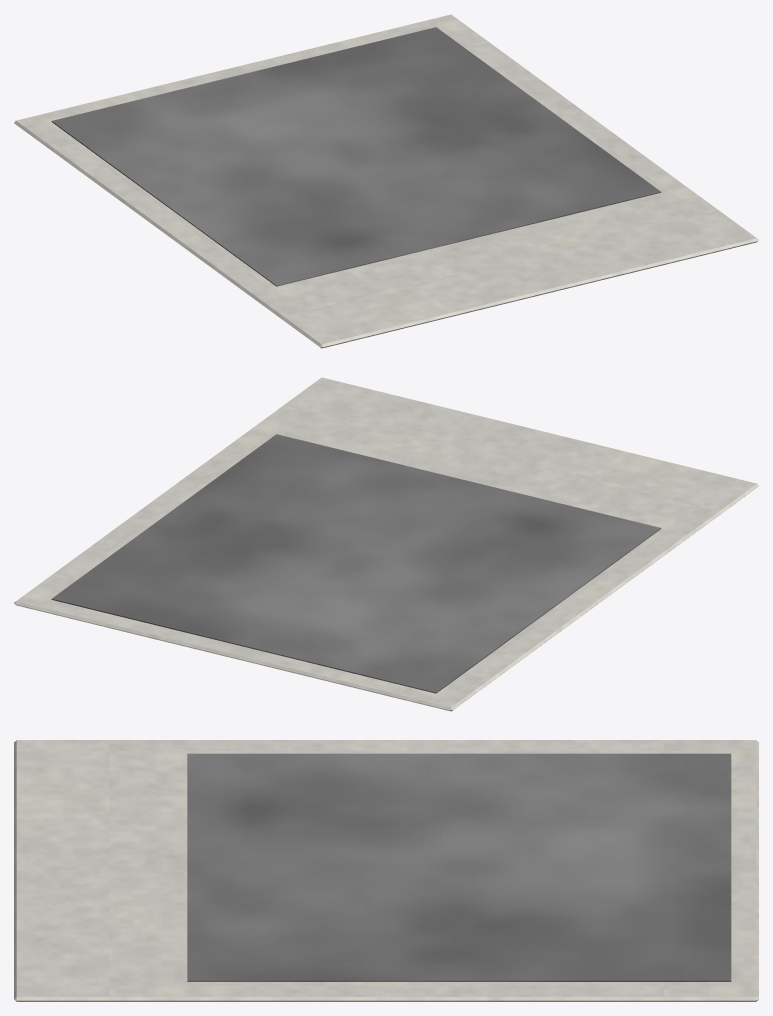
3 renders of one model, top to bottom at view 1: azimuth 30°, elevation 25°; view 2: azimuth 150°, elevation 25°; view 3: azimuth 270°, elevation 25°, orthographic. The views are drawn at different scales.
Visible parts, largest first — view 1: foto, rahmen; view 2: foto, rahmen; view 3: foto, rahmen.
Part boxes in pixels (bbox=[...]): foto: bbox=[51, 27, 661, 286]; rahmen: bbox=[14, 14, 758, 348]; foto: bbox=[51, 434, 661, 693]; rahmen: bbox=[14, 377, 758, 711]; foto: bbox=[187, 753, 731, 981]; rahmen: bbox=[14, 740, 758, 1001].
Size of the model in its own units: 0.0885 by 0.001 by 0.1075.
Materials: 2 (2 with a texture image).
